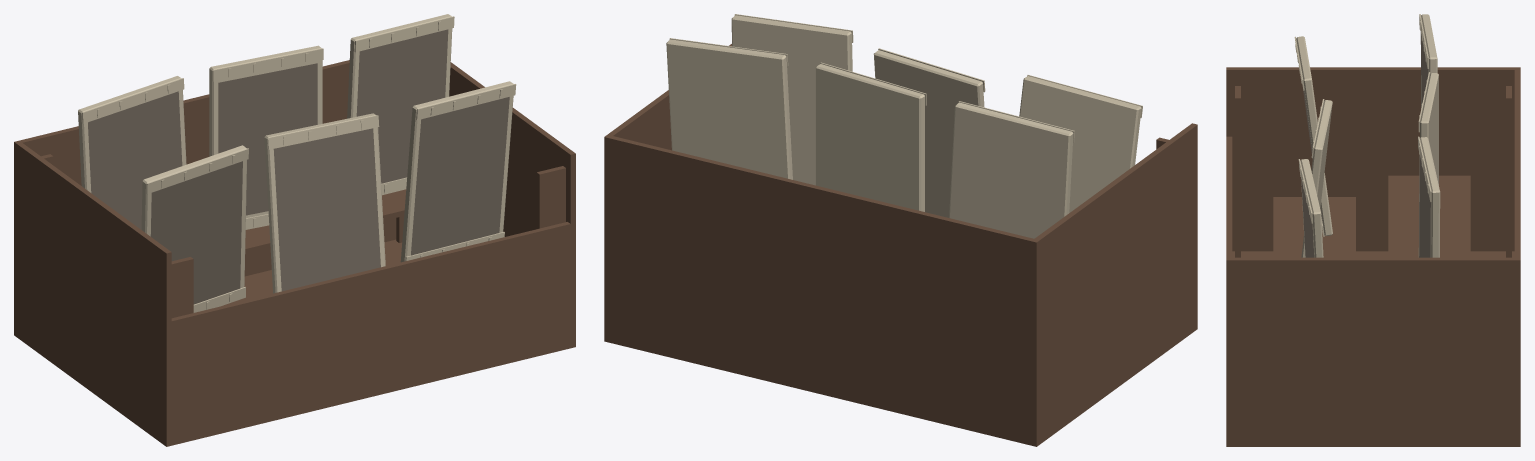
File: sugar-packet-box-17a201c9ea72.glb
3 views of the same model, side by side, from view 1: azimuth 30°, elevation 25°; view 2: azimuth 150°, elevation 25°; view 3: azimuth 270°, elevation 25° (orthographic). The views are drawn at different scales.
Visible parts, largest first — view 1: wood, cover-print, paper; view 2: wood, paper; view 3: wood, paper, cover-print.
Part boxes in pixels (x1=…): wood: x1=14, y1=60, x2=575, y2=446; cover-print: x1=88, y1=29, x2=509, y2=304; paper: x1=78, y1=14, x2=516, y2=312; wood: x1=604, y1=44, x2=1197, y2=446; paper: x1=666, y1=14, x2=1142, y2=238; wood: x1=1226, y1=67, x2=1520, y2=446; paper: x1=1294, y1=14, x2=1440, y2=257; cover-print: x1=1301, y1=34, x2=1430, y2=257.
Size of the model in its own units: 0.155 by 0.095 by 0.1.
